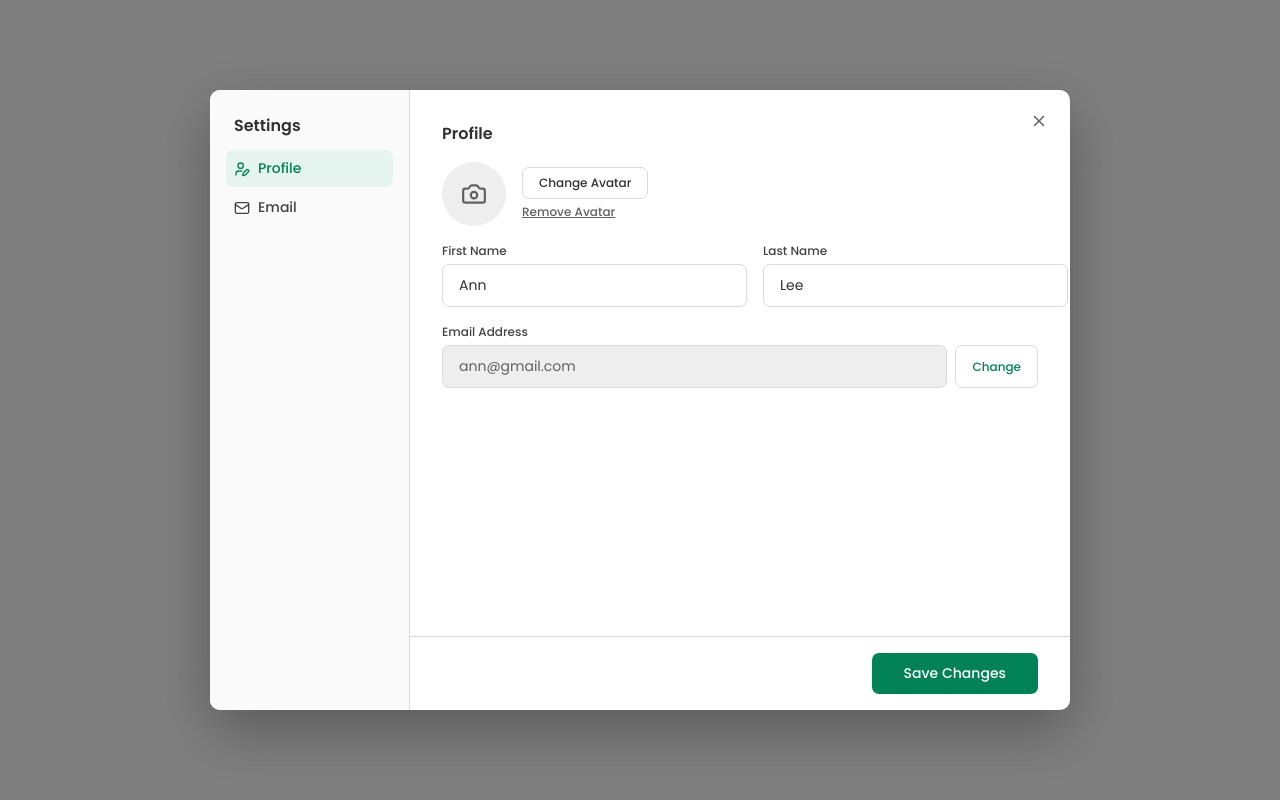
Test: Settings — changing the login email › asks Supabase to change the address and says where the confirmation went
Expected: the field labelled "Email Address" holds "ann@gmail.com", [442, 345, 948, 388]
Click the button "Change" at (997, 366), box [956, 345, 1038, 388]
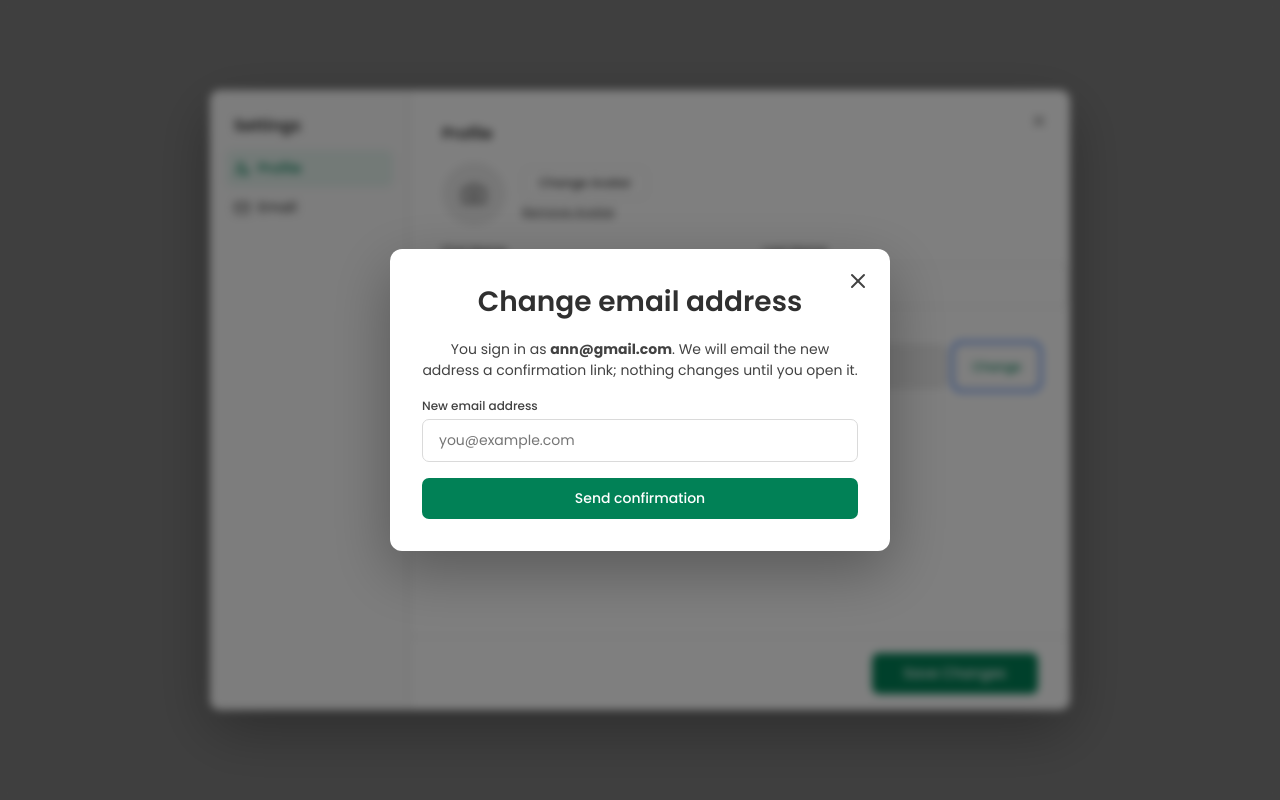
Type "Ann@NewMail.com" into the field labelled "New email address" at (640, 440), box [422, 419, 858, 462]
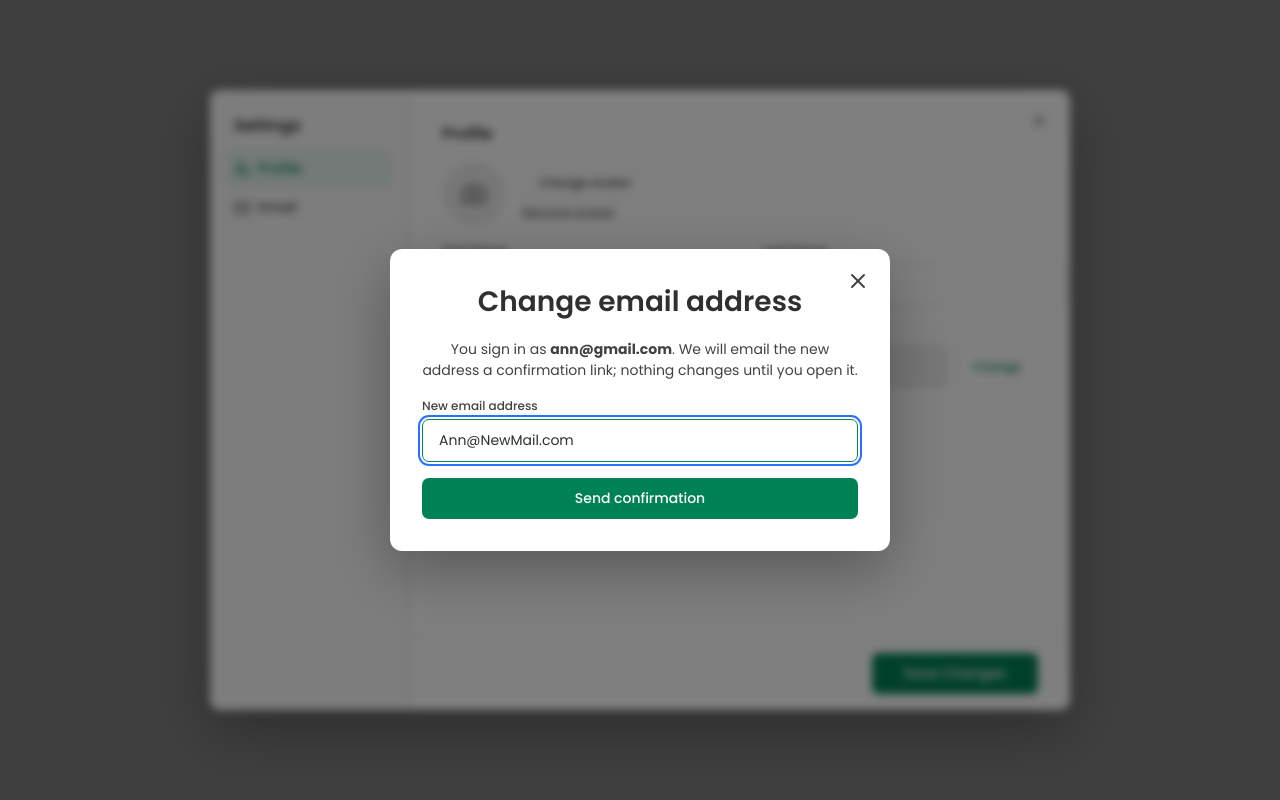
Click the button "Send confirmation" at (640, 498), box [422, 478, 858, 519]
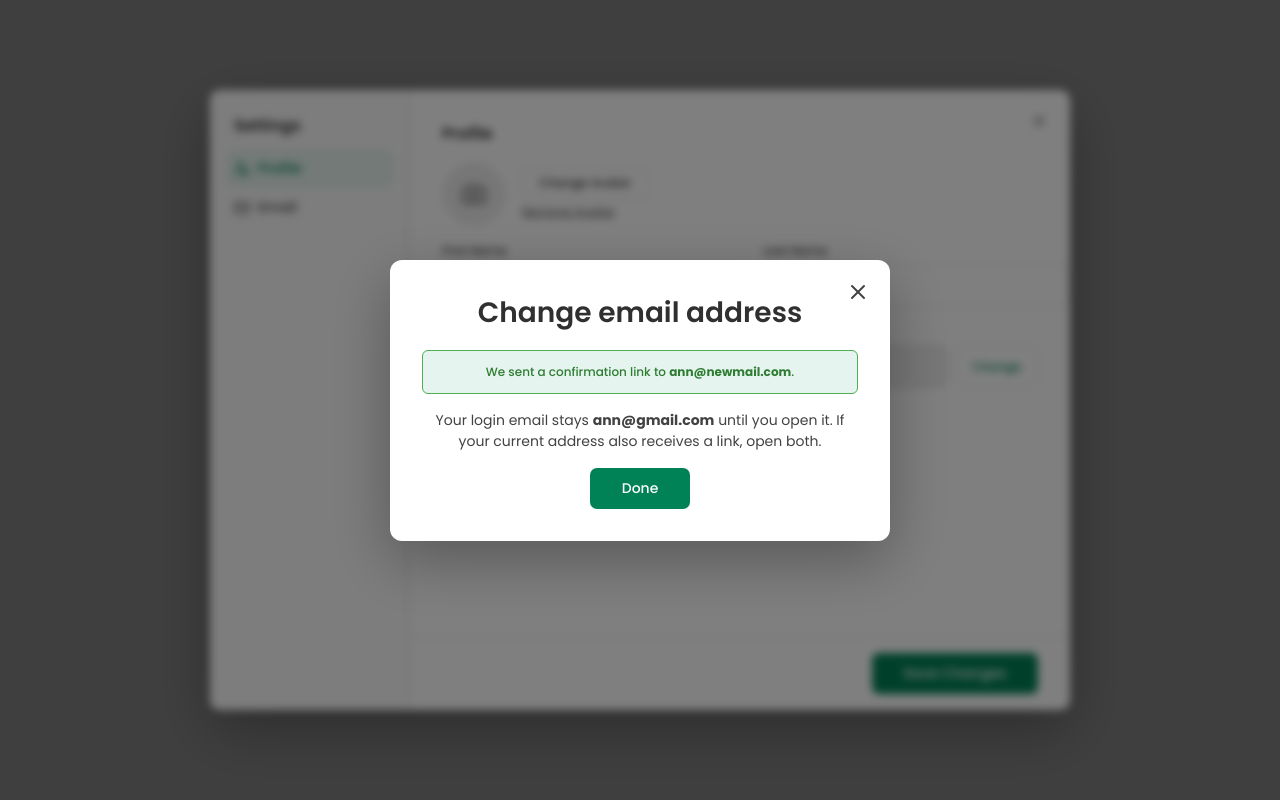
Expected: the field labelled "Email Address" holds "ann@gmail.com", [442, 345, 948, 388]
Expected: the message shows "We sent a confirmation link to ann@newmail.com", [422, 350, 858, 394]
Expected: the dialog "Change email address" shows "stays ann@gmail.com until you open it", [390, 260, 890, 540]
